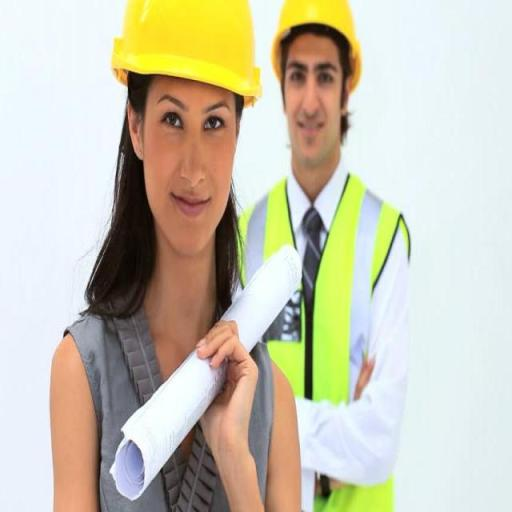helmet: (108, 0, 263, 102), (268, 0, 366, 76)
vest: (242, 174, 404, 507)
